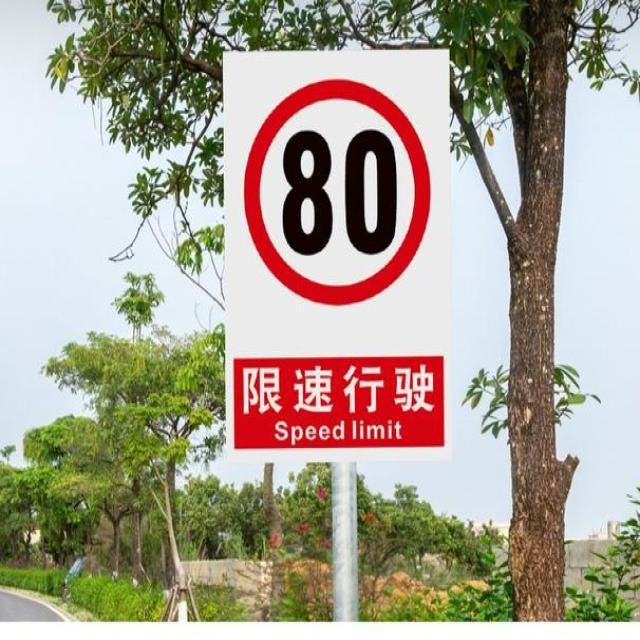speed limit 80: (241, 79, 432, 308)
